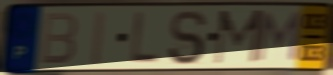B: (38, 11, 80, 67)
I: (88, 9, 109, 68)
L: (128, 10, 160, 66)
M: (212, 8, 265, 67), (253, 10, 304, 63)
S: (166, 9, 209, 67)
